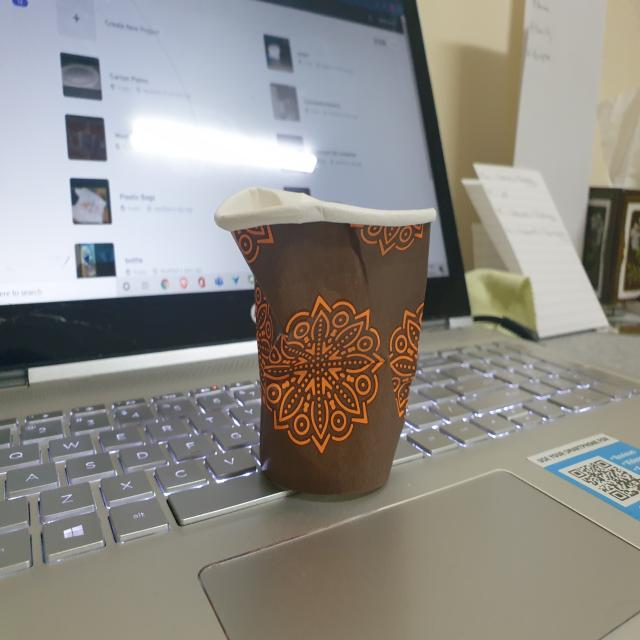cups: (210, 178, 442, 510)
